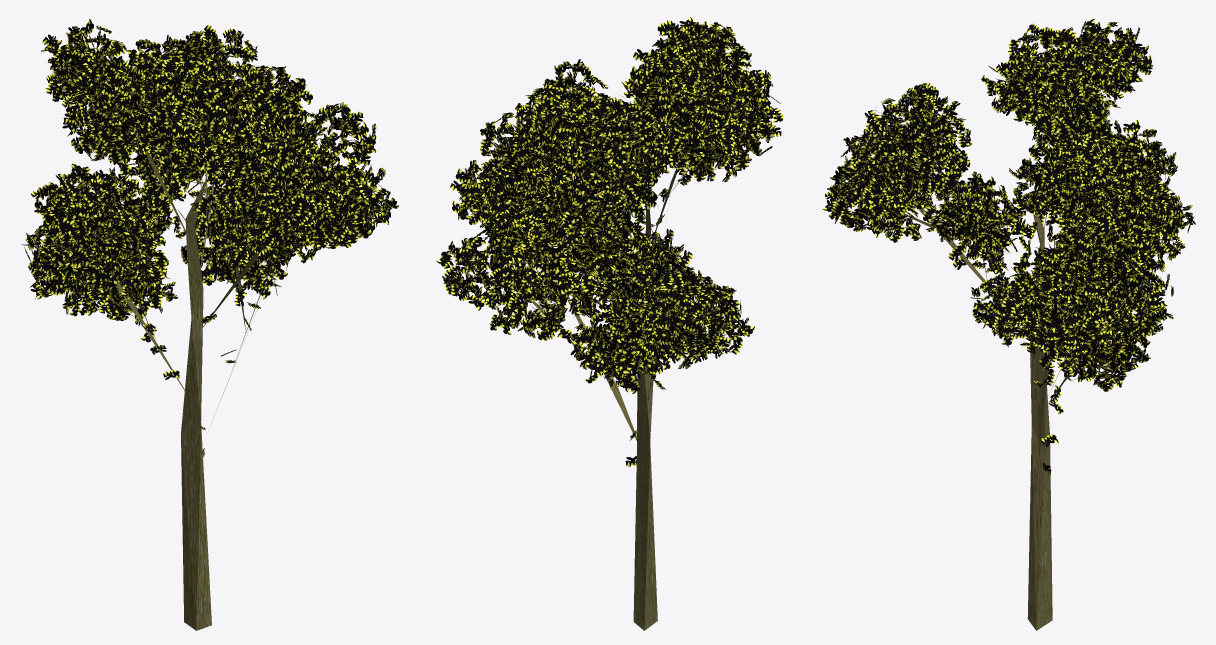
The model's file is cottonwood_river_v02_LOD1.fbx.
The picture shows the model from 3 angles, left to right: view 1: azimuth 30°, elevation 25°; view 2: azimuth 150°, elevation 25°; view 3: azimuth 270°, elevation 25°; orthographic projection. The views are drawn at different scales.
Visible parts, largest first — view 1: cottonwood_river_v02_LOD1; view 2: cottonwood_river_v02_LOD1; view 3: cottonwood_river_v02_LOD1.
Boxes of the visible parts, x1,y1,x2,y2 form: cottonwood_river_v02_LOD1: (21,19,399,630); cottonwood_river_v02_LOD1: (436,17,783,630); cottonwood_river_v02_LOD1: (822,18,1195,630).
Size of the model in its own units: 1993 by 2066 by 3405.
2 materials, 2 textured.
